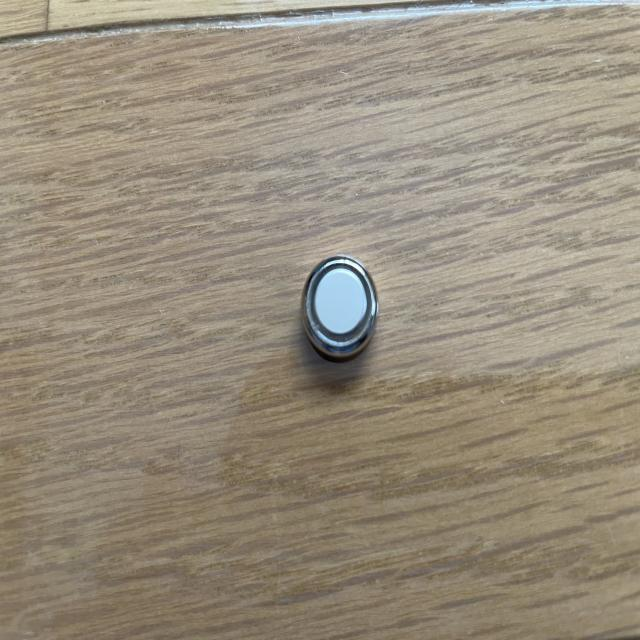COIN: (298, 255, 381, 362)
